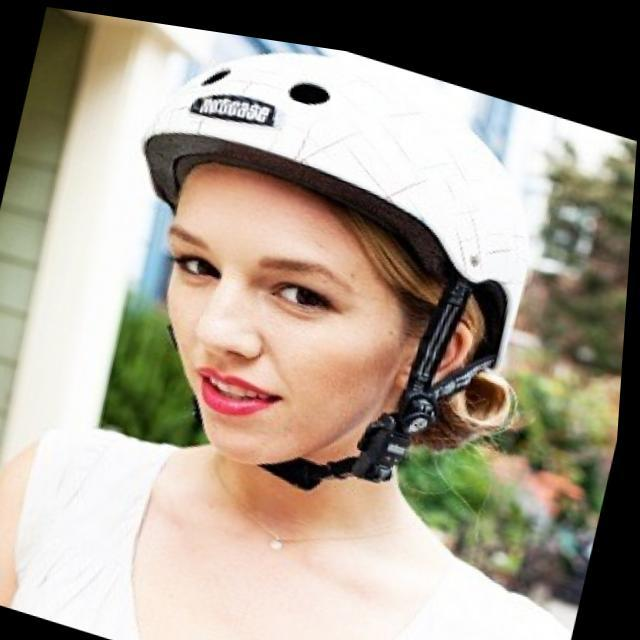Helmet: (133, 36, 534, 498)
